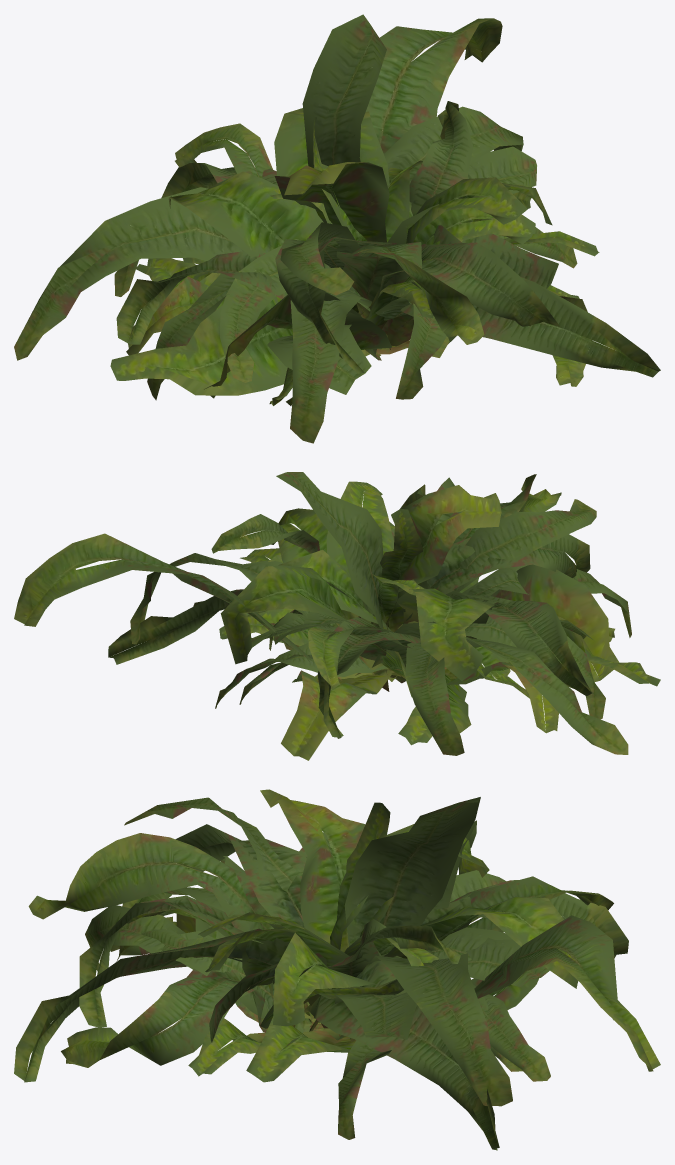
The model's file is ferns.glb.
3 renders of one model, top to bottom at view 1: azimuth 30°, elevation 25°; view 2: azimuth 150°, elevation 25°; view 3: azimuth 270°, elevation 25°, orthographic. The views are drawn at different scales.
Parts seen in each view (by area): view 1: fern_b, fern_c, fern_d, fern_a; view 2: fern_b, fern_c, fern_a, fern_d; view 3: fern_b, fern_c, fern_a, fern_d.
Part boxes in pixels (x1,y1,x2,y2): fern_b: [14, 14, 660, 443]; fern_c: [110, 116, 591, 405]; fern_d: [136, 195, 579, 405]; fern_a: [199, 101, 558, 357]; fern_b: [14, 472, 631, 760]; fern_c: [108, 477, 660, 755]; fern_a: [211, 514, 529, 708]; fern_d: [268, 554, 614, 745]; fern_b: [14, 789, 660, 1139]; fern_c: [61, 797, 613, 1150]; fern_a: [116, 896, 550, 1081]; fern_d: [127, 900, 403, 1076].
Bounding box in the file's own units: 0.9897 × 0.4261 × 0.895.
1 material, 1 textured.
